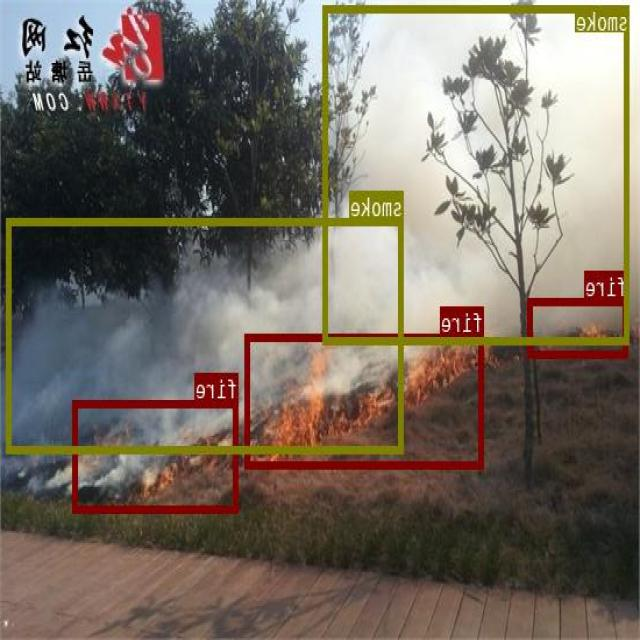fire: (246, 333, 485, 467), (74, 398, 239, 511), (529, 297, 629, 356)
smoke: (324, 4, 630, 343), (7, 217, 405, 452)
